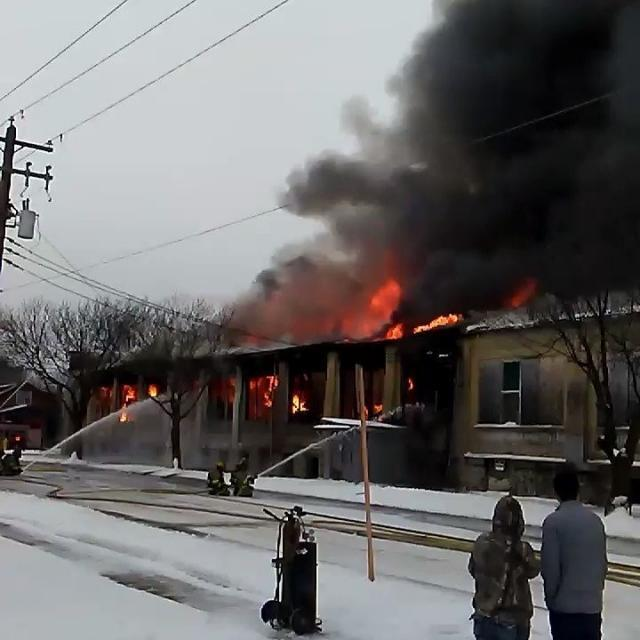Fire: (341, 280, 401, 340), (413, 313, 459, 333), (260, 375, 280, 407), (290, 394, 306, 414), (118, 386, 134, 402), (144, 384, 158, 398)
